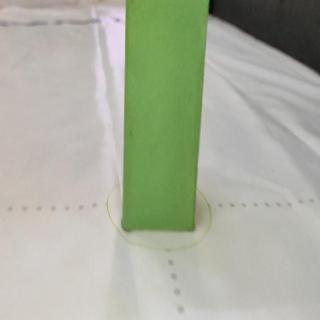greenbox: (119, 0, 212, 230)
